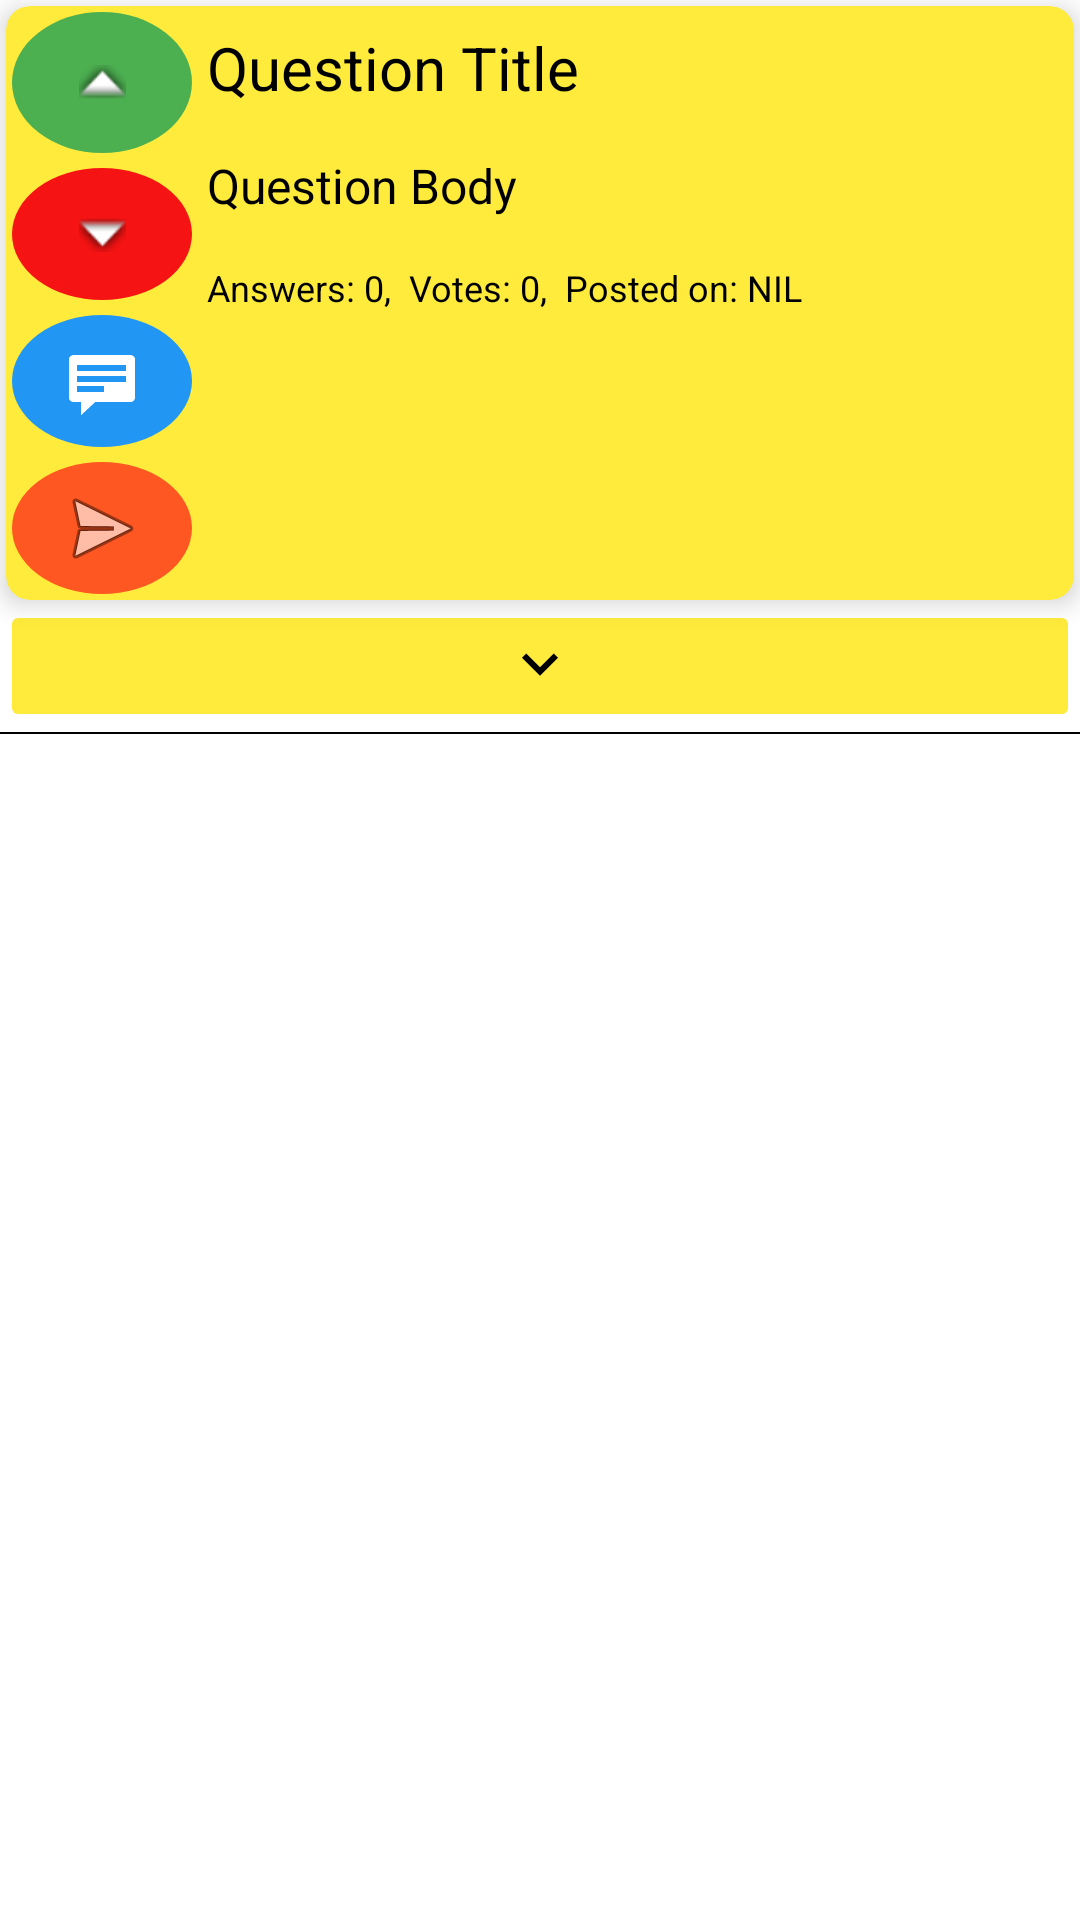

Icon bounding boxes for this 1080x1920 phone screenshot, format {"left": x1, "top": y1, "right": x2, "bottom": y2}:
arrow down float: {"left": 12, "top": 168, "right": 192, "bottom": 300}
arrow up float: {"left": 12, "top": 12, "right": 192, "bottom": 153}
chat: {"left": 12, "top": 315, "right": 192, "bottom": 447}
send: {"left": 12, "top": 462, "right": 192, "bottom": 594}
